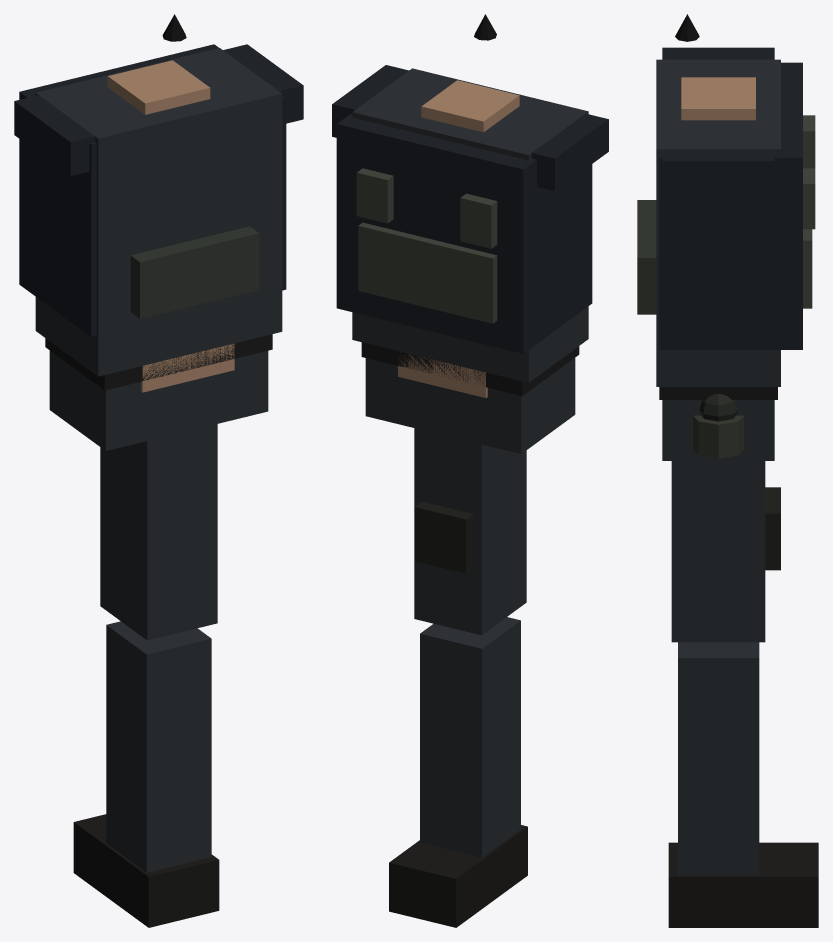
File: operator_jager.glb
3 renders of one model, left to right at view 1: azimuth 30°, elevation 25°; view 2: azimuth 150°, elevation 25°; view 3: azimuth 270°, elevation 25°, orthographic. The views are drawn at different scales.
Visible parts, largest first — view 1: torso, legL, hips, head; view 2: torso, legL, hips, head; view 3: torso, legL, hips, head.
Boxes of the visible parts, x1,y1,x2,y2 form: torso: (14, 14, 303, 376); legL: (73, 424, 219, 927); hips: (45, 334, 272, 450); head: (130, 226, 259, 392); torso: (332, 14, 608, 382); legL: (389, 428, 527, 927); hips: (361, 342, 579, 453); head: (398, 352, 487, 397); torso: (656, 14, 815, 458); legL: (668, 461, 818, 927); hips: (659, 387, 777, 460); head: (637, 200, 656, 314).
Size of the model in its own units: 0.43 by 1.58 by 0.29.
